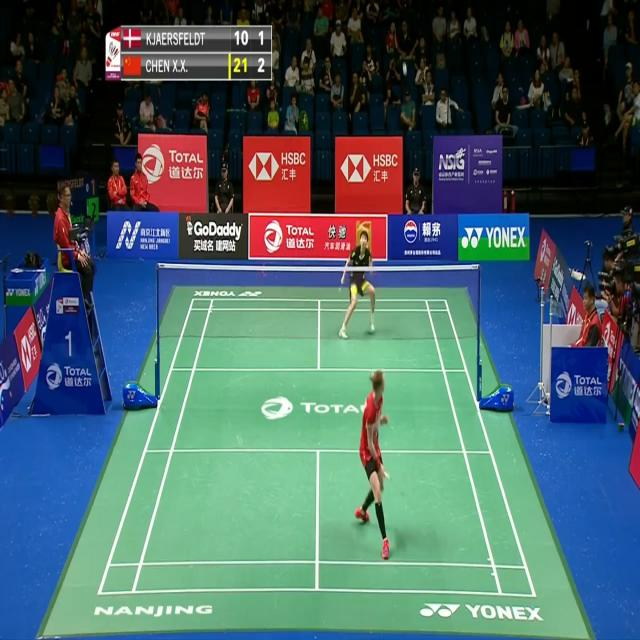Player1: (350, 366, 400, 566)
Player2: (336, 226, 380, 341)
